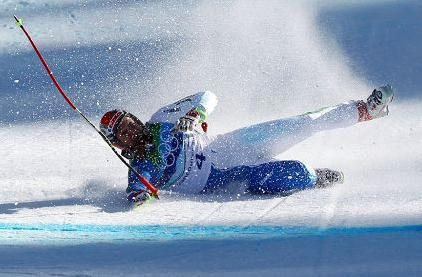fall: (92, 68, 411, 208)
